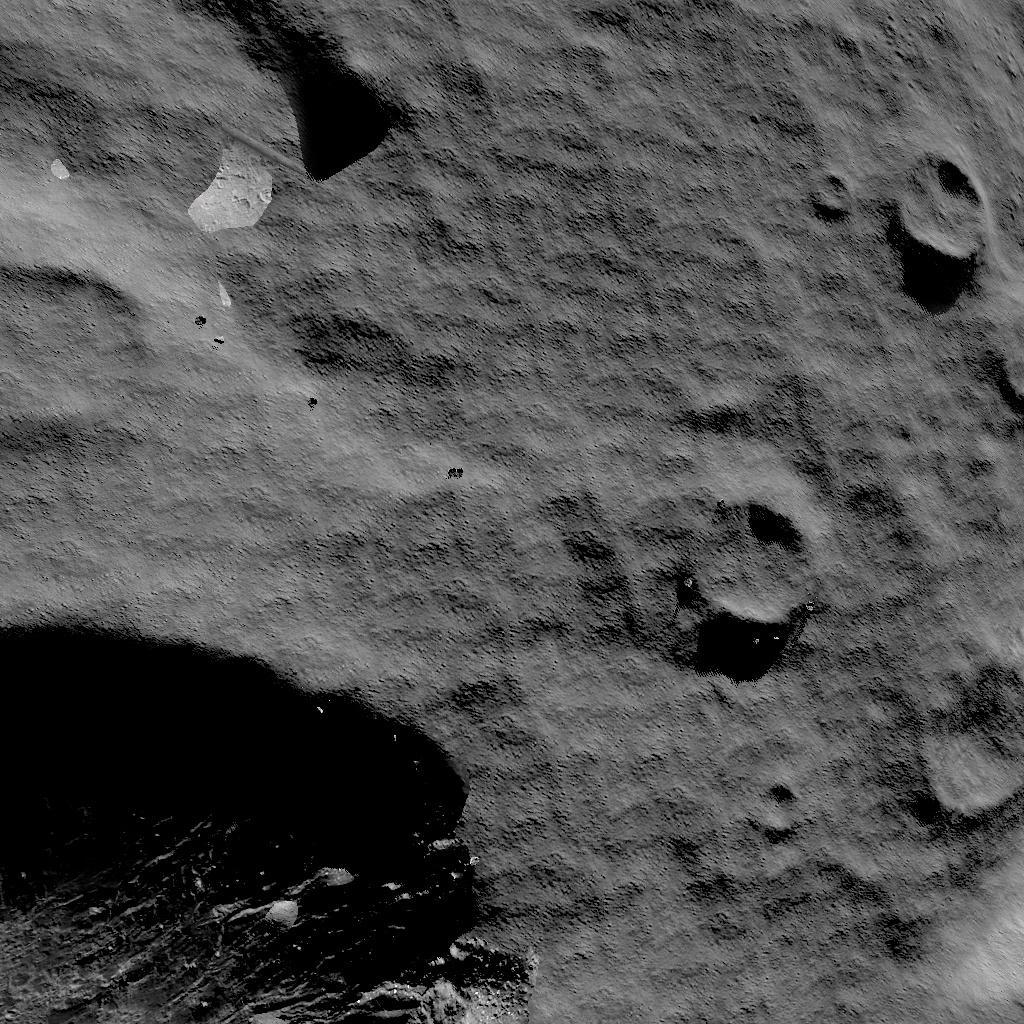Boulders: (176, 130, 287, 236)
Crater: (0, 510, 527, 1024), (4, 236, 147, 442), (670, 490, 825, 656), (902, 649, 1024, 830), (879, 124, 994, 302), (746, 768, 809, 836), (806, 150, 859, 228)
Plan surface: (430, 0, 787, 414), (546, 856, 953, 1024)
